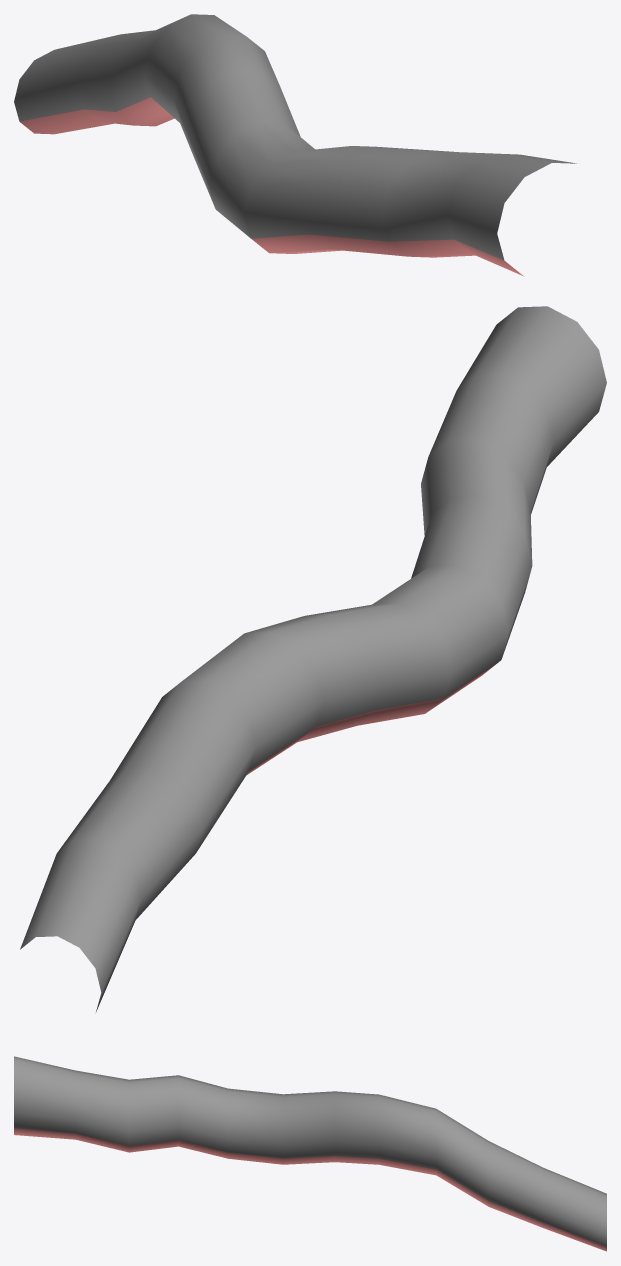
The picture shows the model from 3 angles, top to bottom: view 1: azimuth 30°, elevation 25°; view 2: azimuth 150°, elevation 25°; view 3: azimuth 270°, elevation 25°; orthographic projection. The views are drawn at different scales.
Parts seen in each view (by area): view 1: root_1_1; view 2: root_1_1; view 3: root_1_1.
Boxes of the visible parts, box(x1,y1,x2,y2) form: root_1_1: box(14, 14, 576, 276); root_1_1: box(20, 306, 606, 1011); root_1_1: box(14, 1056, 606, 1251).
Bounding box in the file's own units: 10.3 × 16.24 × 44.55.
